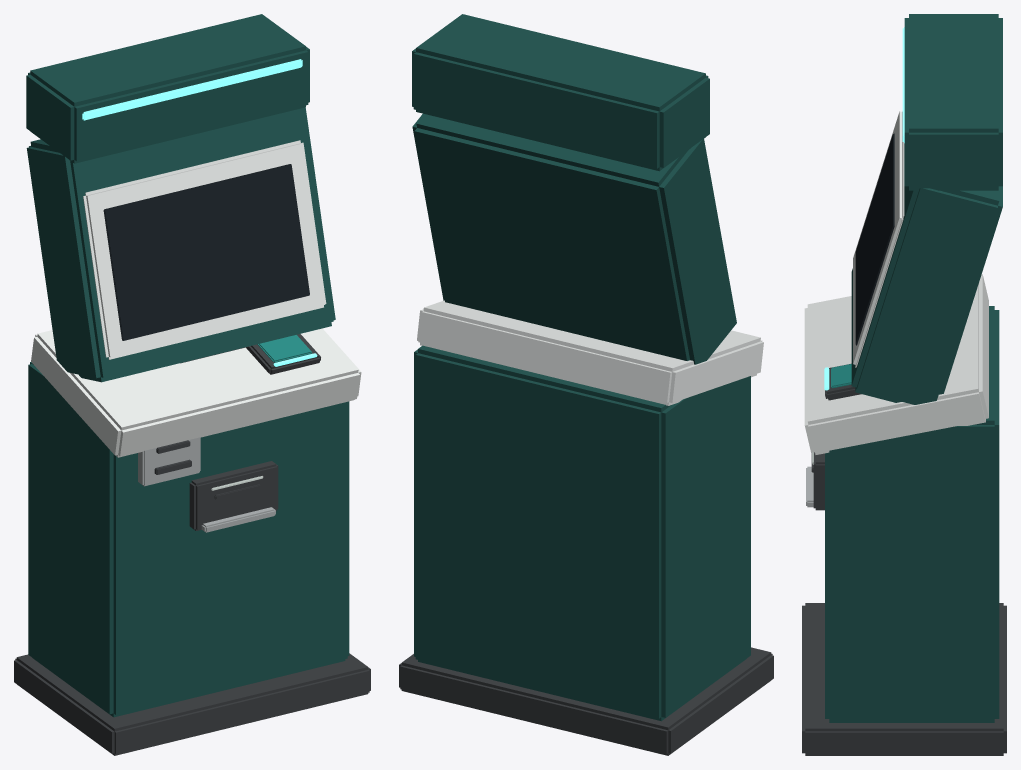
File: SM_NEXO_Kiosk.fbx
3 views of the same model, side by side, from view 1: azimuth 30°, elevation 25°; view 2: azimuth 150°, elevation 25°; view 3: azimuth 270°, elevation 25° (orthographic). The views are drawn at different scales.
Visible parts, largest first — view 1: Kiosk_LowerBody, Kiosk_ScreenSurface, Kiosk_Header, Kiosk_UpperHousing, Kiosk_Deck, Kiosk_Plinth, Kiosk_ScreenBezel, Kiosk_DispenserFrame, Kiosk_HeaderAccent, Kiosk_PaymentModule, Kiosk_CardReaderPad, Kiosk_CardReaderBase (+1 smaller); view 2: Kiosk_LowerBody, Kiosk_UpperHousing, Kiosk_Header, Kiosk_Deck, Kiosk_Plinth; view 3: Kiosk_LowerBody, Kiosk_UpperHousing, Kiosk_Header, Kiosk_Deck, Kiosk_Plinth, Kiosk_ScreenSurface, Kiosk_ScreenBezel, Kiosk_DispenserFrame, Kiosk_CardReaderPad, Kiosk_CardReaderBase.
Boxes of the visible parts, x1=… form: Kiosk_LowerBody: x1=28, y1=362, x2=349, y2=717; Kiosk_ScreenSurface: x1=103, y1=164, x2=309, y2=340; Kiosk_Header: x1=26, y1=14, x2=309, y2=163; Kiosk_UpperHousing: x1=26, y1=107, x2=335, y2=382; Kiosk_Deck: x1=31, y1=328, x2=361, y2=457; Kiosk_Plinth: x1=14, y1=653, x2=370, y2=755; Kiosk_ScreenBezel: x1=83, y1=140, x2=326, y2=359; Kiosk_DispenserFrame: x1=189, y1=461, x2=278, y2=530; Kiosk_HeaderAccent: x1=82, y1=59, x2=302, y2=120; Kiosk_PaymentModule: x1=138, y1=437, x2=200, y2=486; Kiosk_CardReaderPad: x1=257, y1=335, x2=312, y2=362; Kiosk_CardReaderBase: x1=246, y1=334, x2=320, y2=374; Kiosk_LowerBody: x1=414, y1=345, x2=750, y2=721; Kiosk_UpperHousing: x1=412, y1=113, x2=736, y2=364; Kiosk_Header: x1=412, y1=14, x2=709, y2=171; Kiosk_Deck: x1=417, y1=300, x2=763, y2=405; Kiosk_Plinth: x1=399, y1=647, x2=773, y2=755; Kiosk_LowerBody: x1=825, y1=306, x2=999, y2=722; Kiosk_UpperHousing: x1=851, y1=186, x2=1002, y2=404; Kiosk_Header: x1=904, y1=14, x2=1002, y2=190; Kiosk_Deck: x1=804, y1=274, x2=988, y2=454; Kiosk_Plinth: x1=802, y1=603, x2=1006, y2=755; Kiosk_ScreenSurface: x1=855, y1=133, x2=894, y2=345; Kiosk_ScreenBezel: x1=853, y1=111, x2=904, y2=367; Kiosk_DispenserFrame: x1=813, y1=452, x2=824, y2=510; Kiosk_CardReaderPad: x1=831, y1=364, x2=851, y2=388; Kiosk_CardReaderBase: x1=825, y1=363, x2=861, y2=400.
Bounding box in the file's own units: 0.8 × 1.81 × 0.54.
